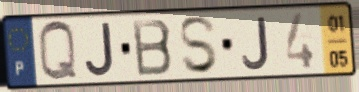4: (285, 11, 316, 72)
B: (130, 17, 175, 79)
J: (83, 20, 117, 79), (240, 15, 271, 72)
Q: (36, 18, 81, 84)
S: (177, 14, 221, 76)
